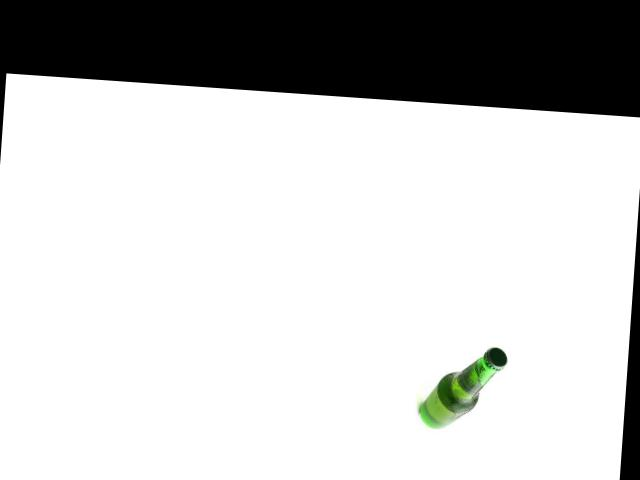beer: (418, 341, 507, 433)
